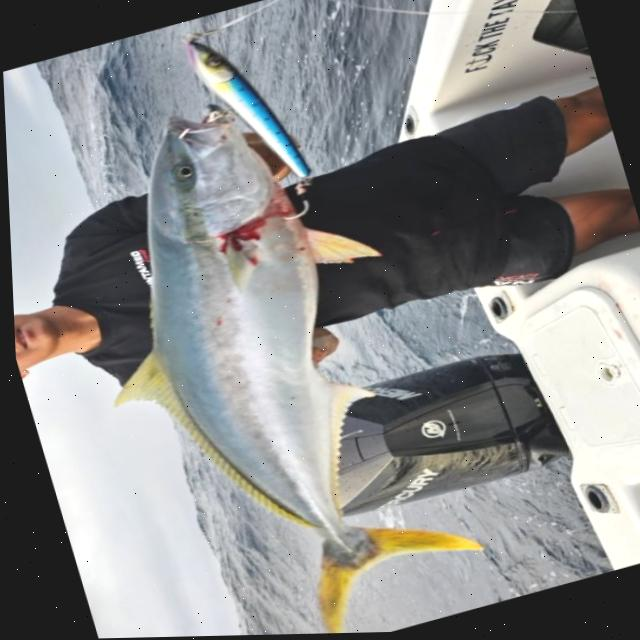Kingfish: (31, 64, 498, 640)
